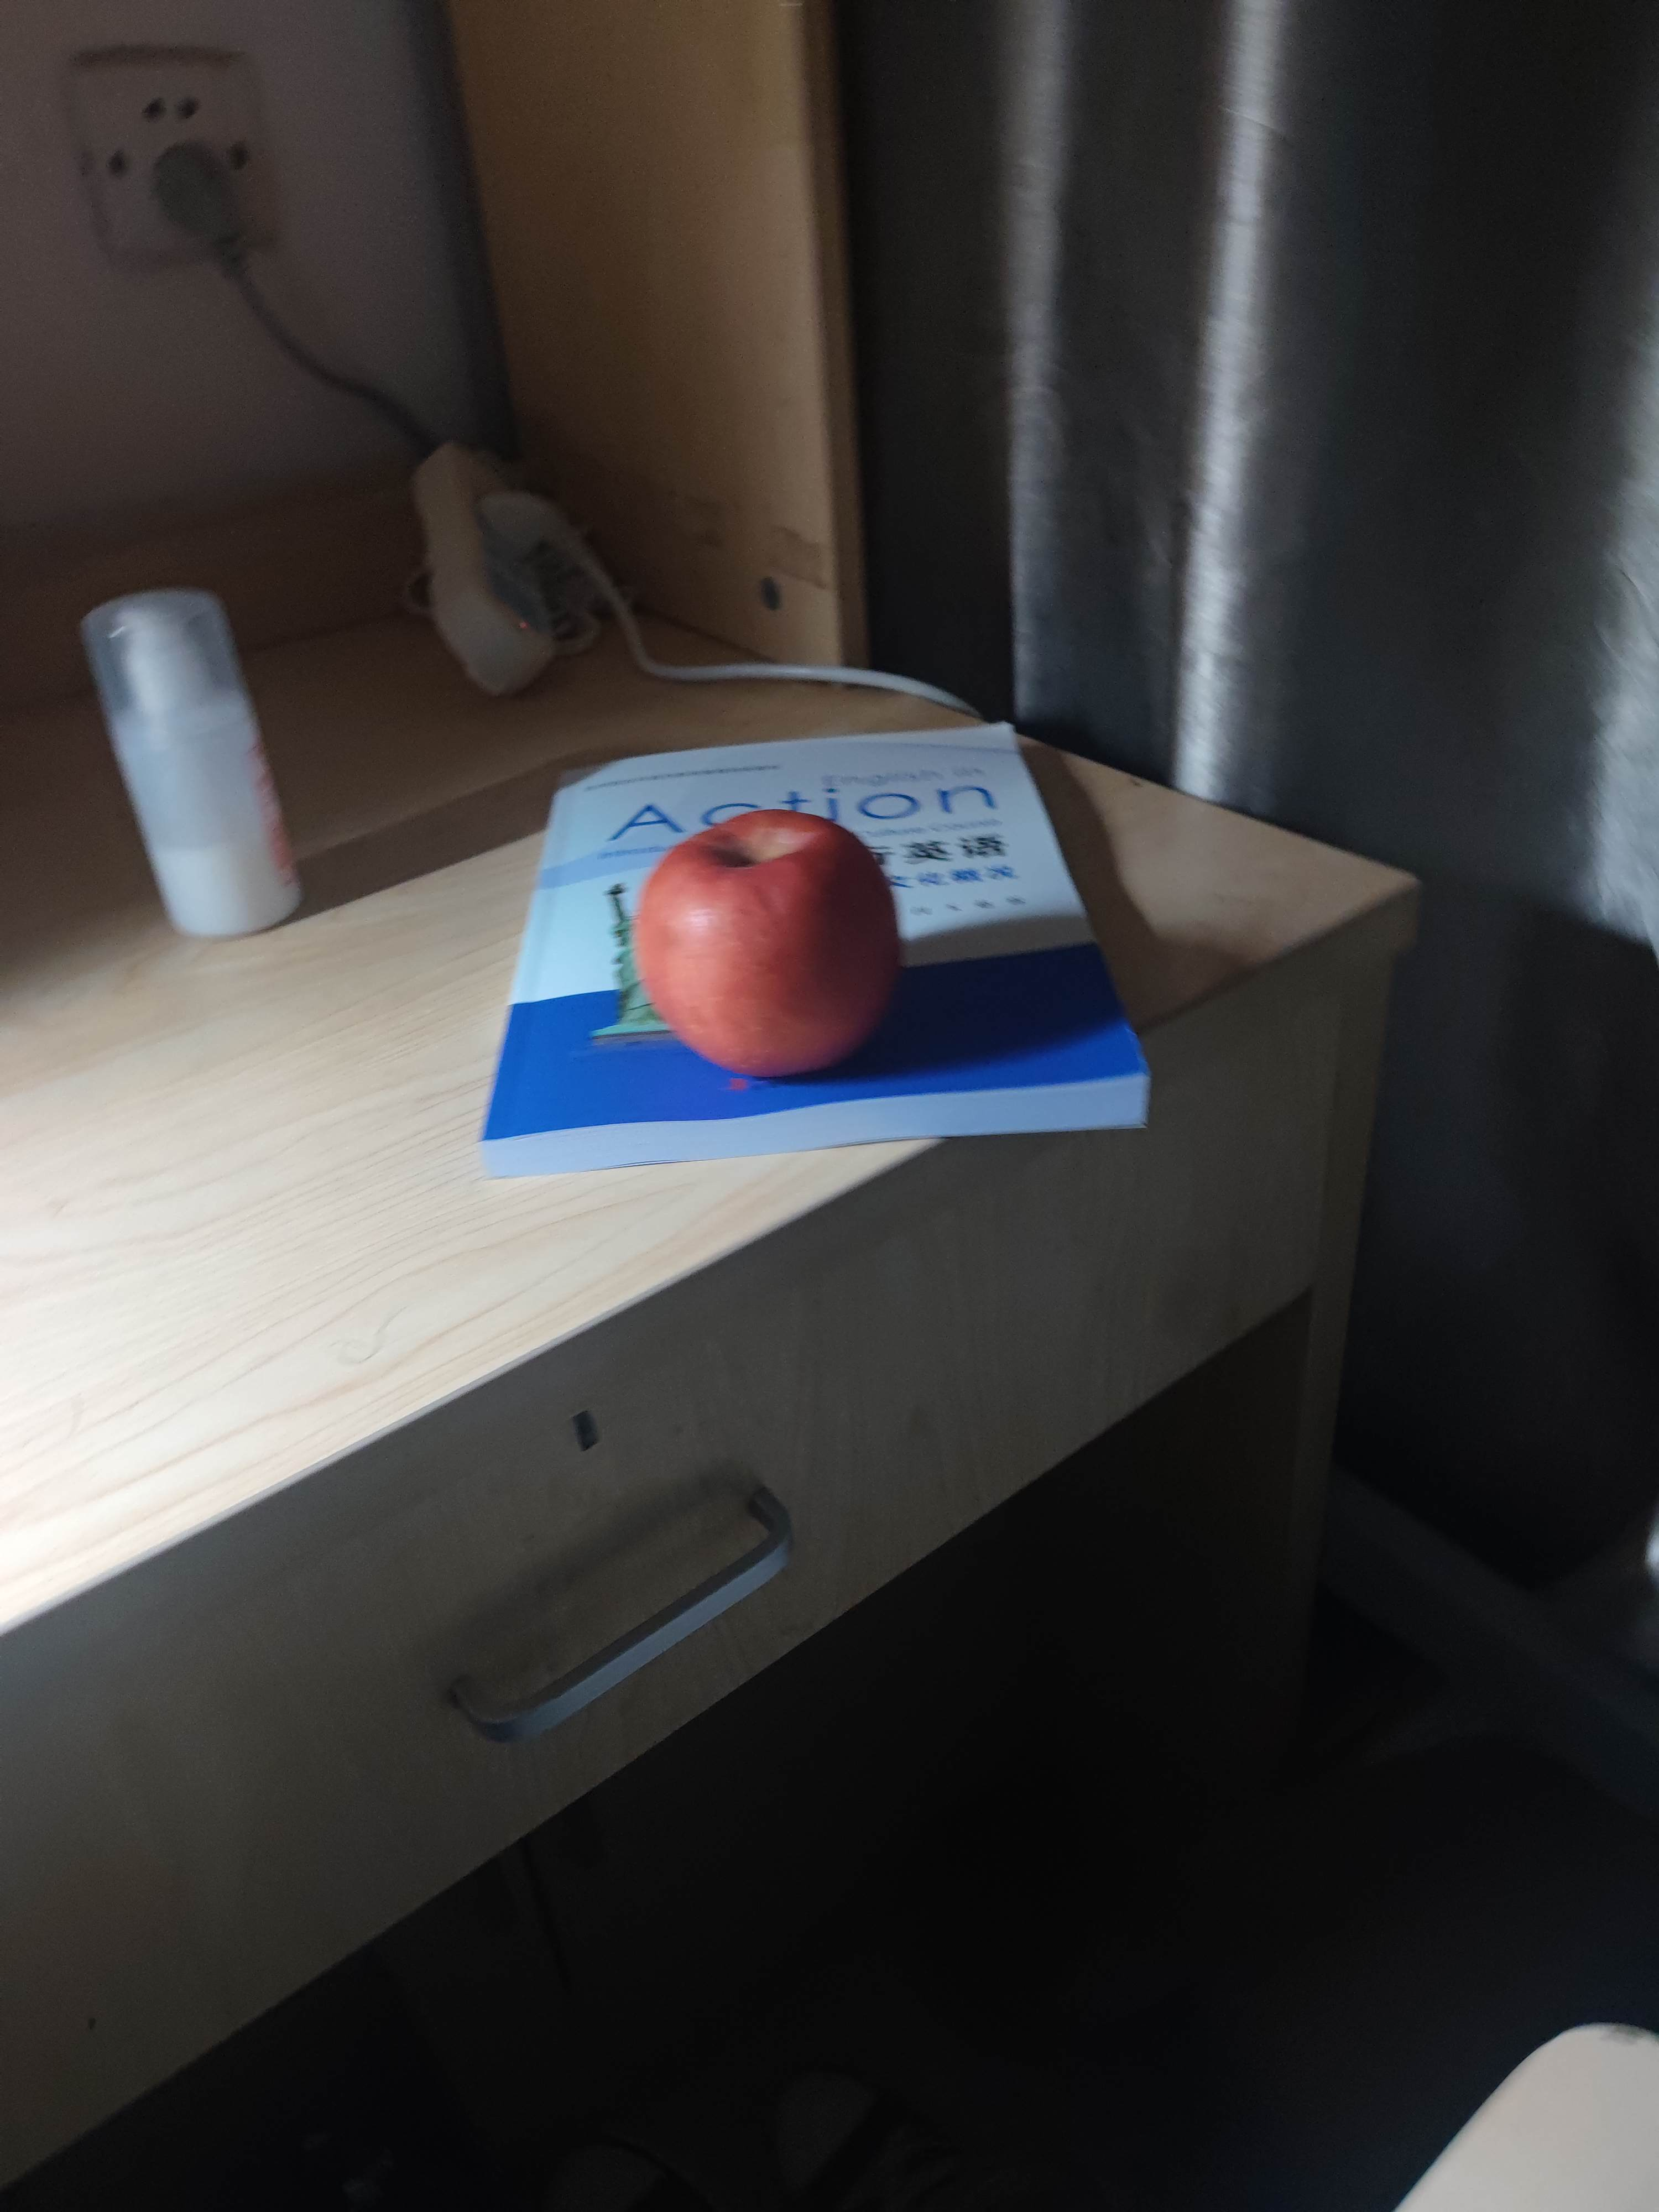apple: (631, 810, 899, 1078)
